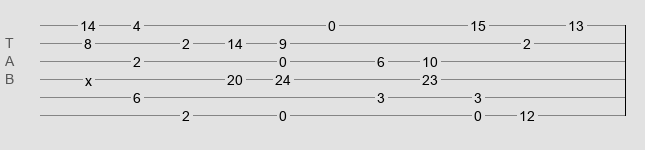0: (279, 54, 287, 64), (279, 108, 287, 118), (328, 18, 336, 28), (474, 108, 482, 118)
10: (422, 54, 438, 64)
12: (519, 108, 535, 118)
13: (568, 18, 584, 28)
14: (80, 18, 96, 28), (227, 36, 243, 46)
15: (470, 18, 486, 28)
2: (133, 54, 141, 64), (182, 36, 190, 46), (182, 108, 190, 118), (523, 36, 531, 46)
20: (227, 72, 243, 82)
23: (422, 72, 438, 82)
24: (275, 72, 291, 82)
3: (377, 90, 385, 100), (474, 90, 482, 100)
4: (133, 18, 141, 28)
6: (133, 90, 141, 100), (377, 54, 385, 64)
8: (84, 36, 92, 46)
9: (279, 36, 287, 46)
x: (85, 73, 92, 81)
